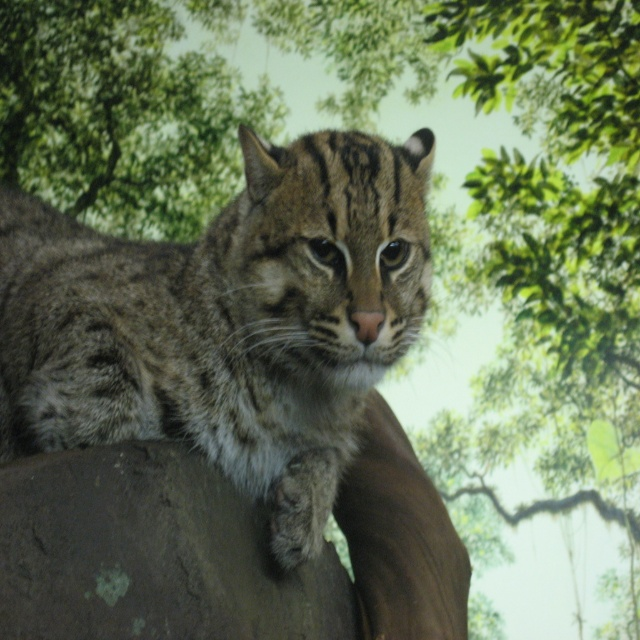Lynx: (0, 122, 437, 573)
